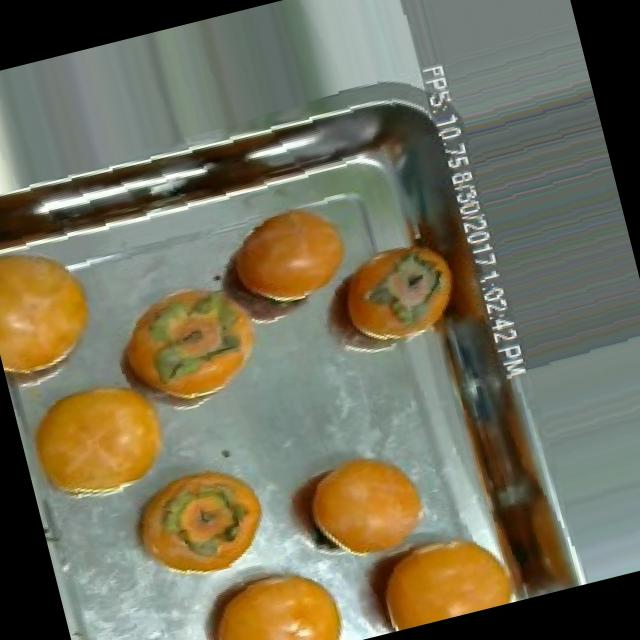Fruit: (89, 260, 288, 436), (8, 353, 196, 528), (102, 442, 292, 606), (322, 507, 527, 640), (276, 428, 446, 581), (302, 232, 472, 372), (205, 188, 372, 326), (172, 537, 366, 640), (0, 233, 113, 389)
